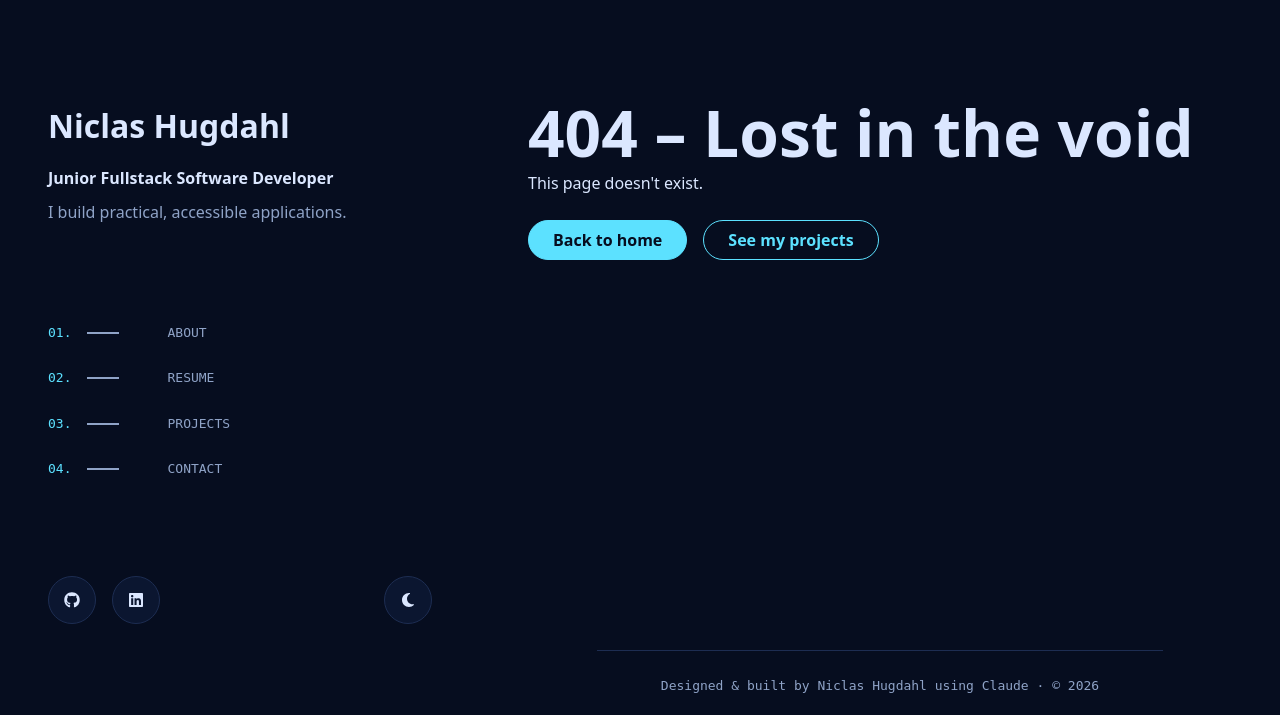
Test case: 404 › the 'See my projects' link opens the projects page
Expected: the heading "404 – Lost in the void" is shown, [528,96,1232,170]
Click the link "See my projects".
click(791, 240)  # box [703,220,879,260]
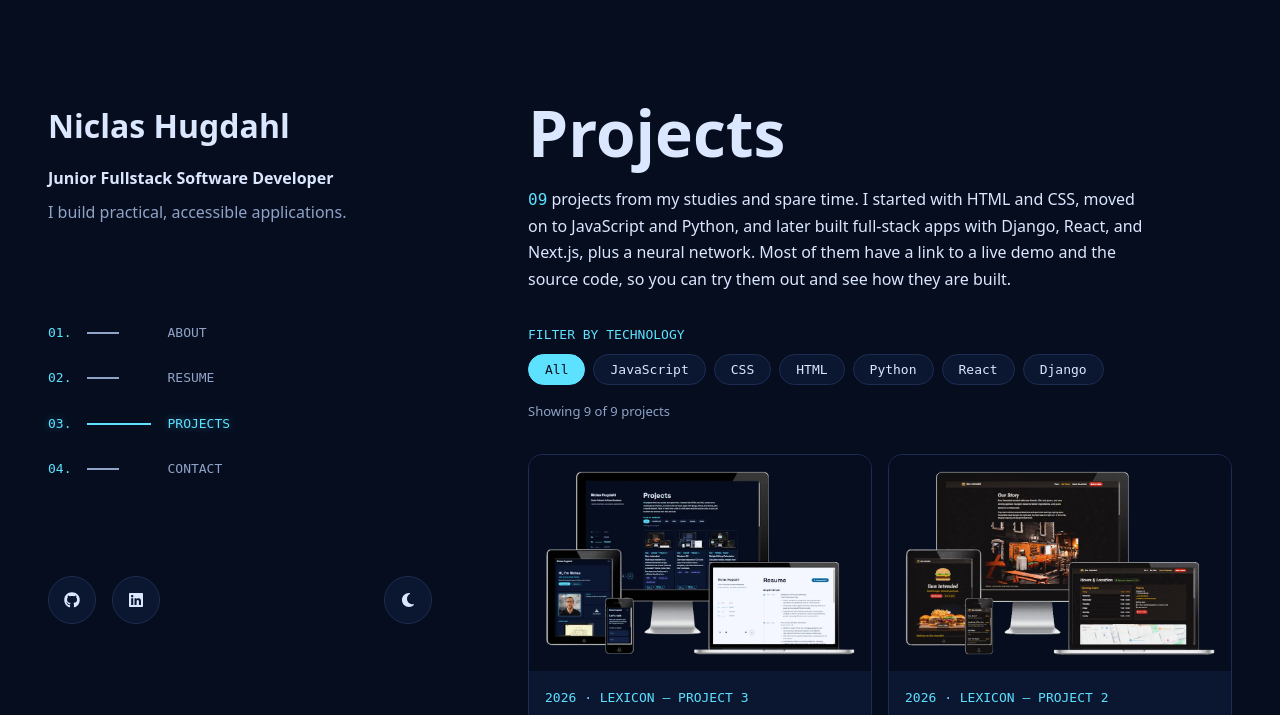
Expected: the heading "Projects" is shown, [528,89,785,176]
